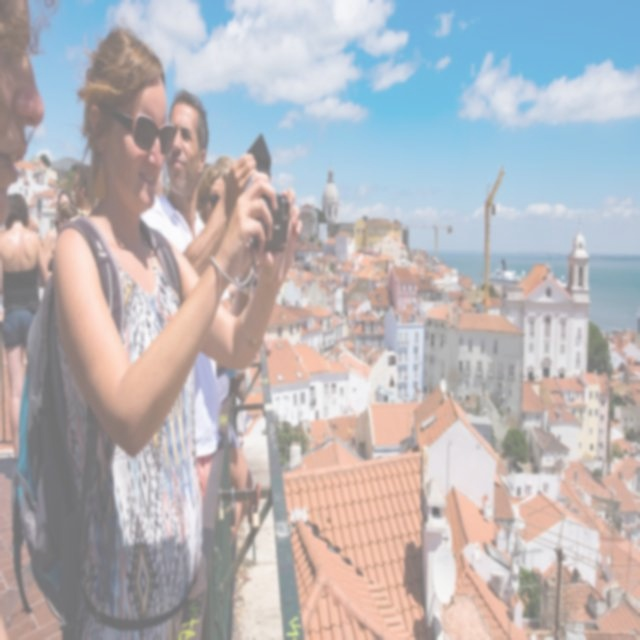pessoa: (45, 21, 304, 638), (138, 85, 258, 510), (0, 188, 55, 480), (0, 0, 50, 229), (228, 264, 272, 434), (42, 188, 77, 282), (195, 162, 228, 228), (72, 162, 99, 218), (54, 200, 80, 236)
